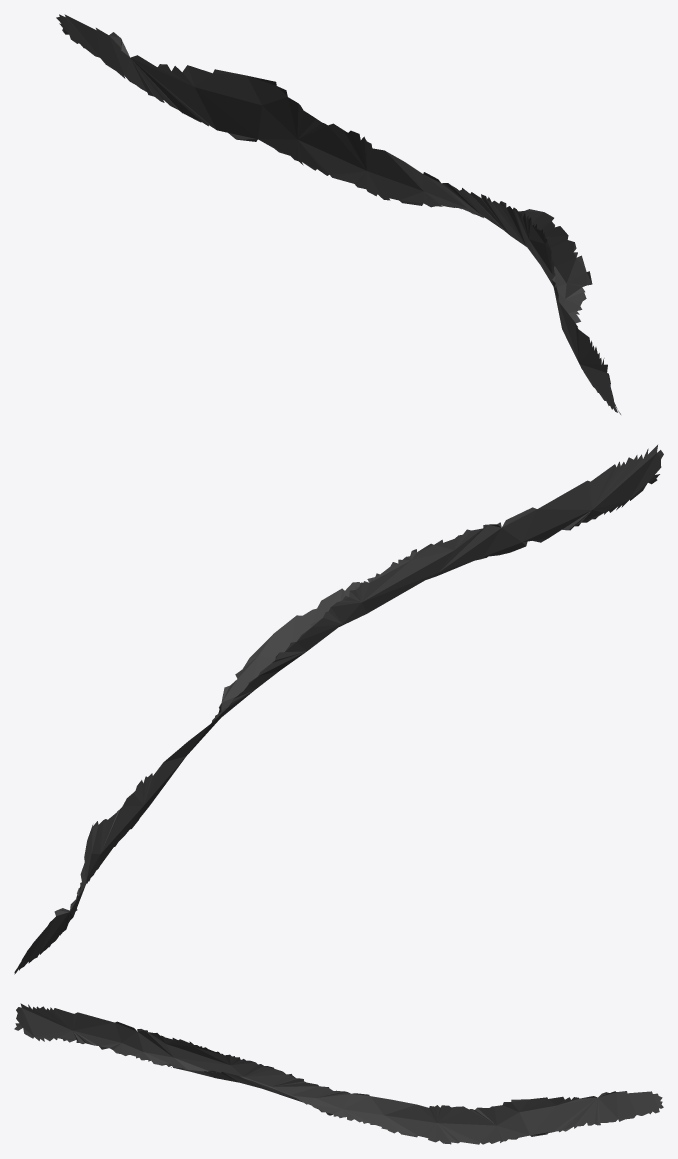
File: vein_med_dig_palmar.glb
3 views of the same model, one above another, from view 1: azimuth 30°, elevation 25°; view 2: azimuth 150°, elevation 25°; view 3: azimuth 270°, elevation 25° (orthographic). The views are drawn at different scales.
Visible parts, largest first — view 1: vein_med_dig_palmar; view 2: vein_med_dig_palmar; view 3: vein_med_dig_palmar.
Part boxes in pixels (x1=…): vein_med_dig_palmar: x1=56, y1=14, x2=620, y2=414; vein_med_dig_palmar: x1=14, y1=445, x2=663, y2=974; vein_med_dig_palmar: x1=14, y1=1003, x2=663, y2=1144.
Size of the model in its own units: 0.028 by 0.0257 by 0.1549.
1 material, 1 textured.
